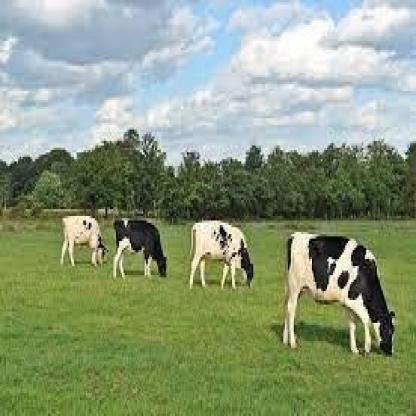cow: (282, 232, 395, 357), (189, 223, 254, 293), (113, 214, 169, 282), (63, 216, 104, 268)
